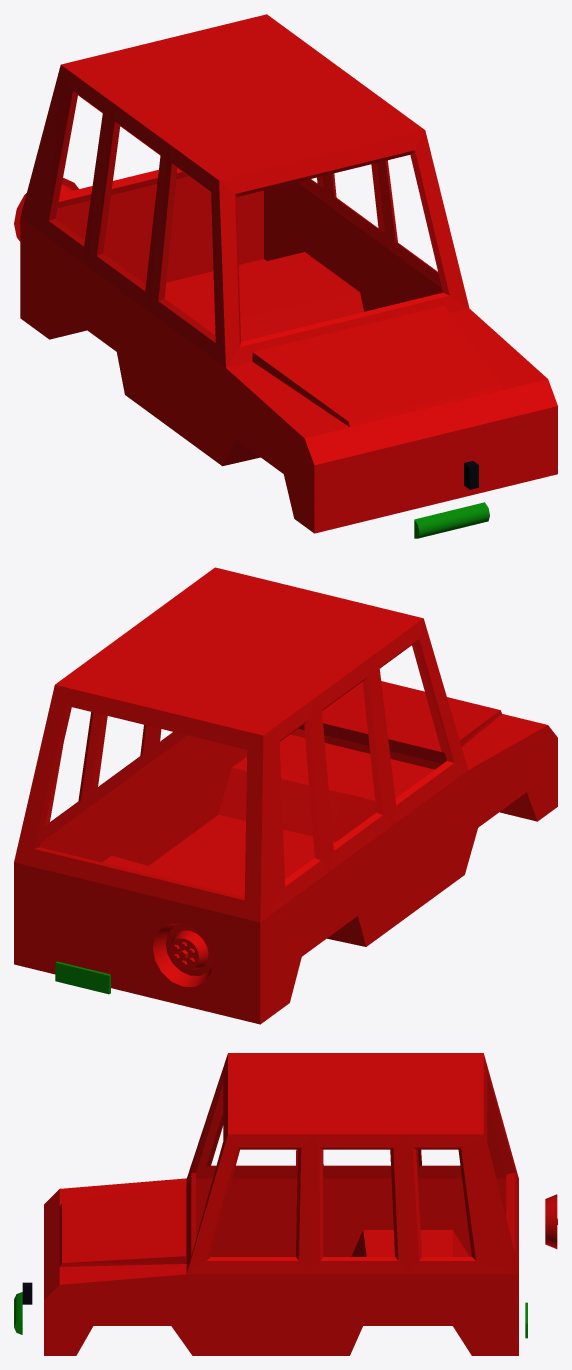
The model's file is Car1Body.fbx.
3 renders of one model, top to bottom at view 1: azimuth 30°, elevation 25°; view 2: azimuth 150°, elevation 25°; view 3: azimuth 270°, elevation 25°, orthographic. The views are drawn at different scales.
Visible parts, largest first — view 1: Car1Body; view 2: Car1Body; view 3: Car1Body.
Boxes of the visible parts, x1,y1,x2,y2 form: Car1Body: (14, 14, 557, 538); Car1Body: (14, 567, 557, 1024); Car1Body: (14, 1053, 557, 1355).
Size of the model in its own units: 2 by 2.21 by 4.79.
